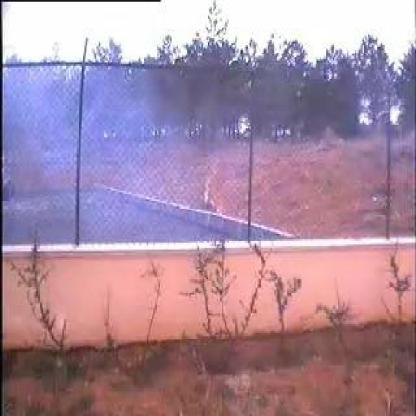-: (36, 79, 186, 238)
